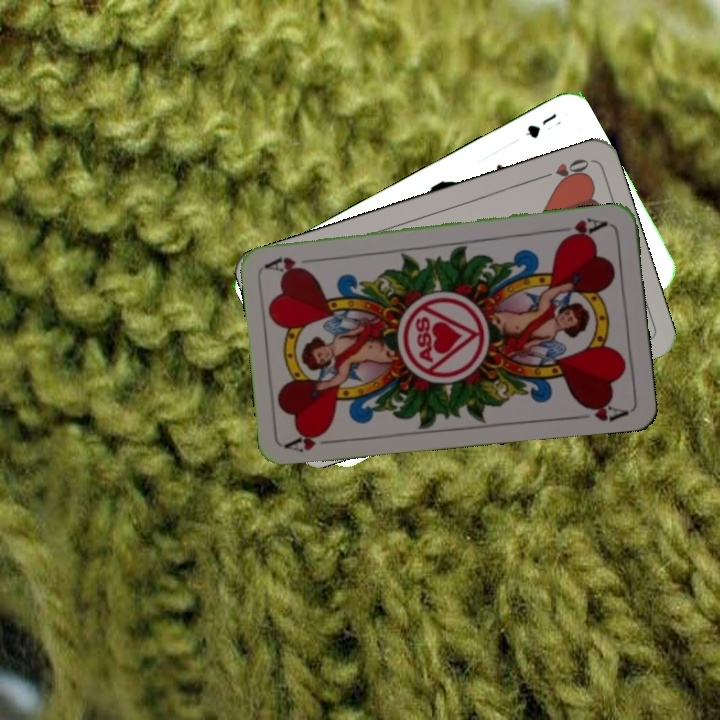GU: (521, 109, 565, 141)
HA: (553, 213, 611, 243), (283, 426, 342, 455)
HO: (535, 154, 592, 186)
